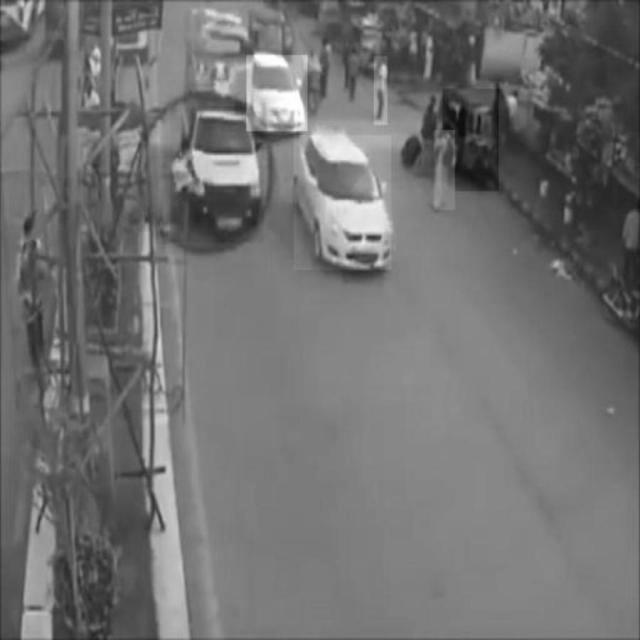accident: (171, 108, 264, 242)
person: (434, 131, 454, 211), (374, 56, 388, 124)
vehicle: (295, 135, 393, 269), (443, 90, 499, 192), (246, 55, 307, 131)
